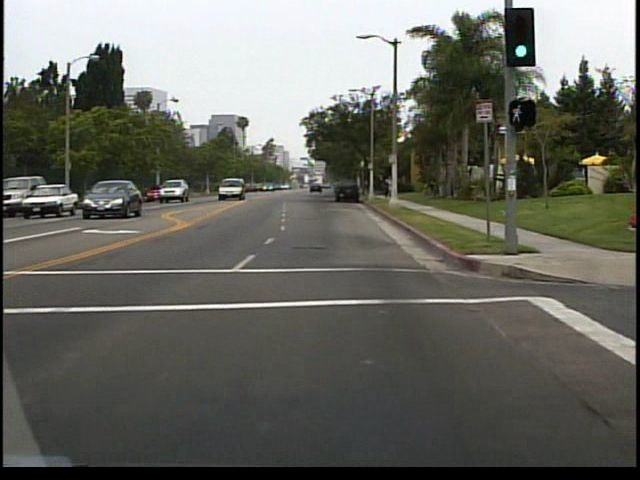person: (387, 175, 400, 199), (387, 177, 388, 198)
